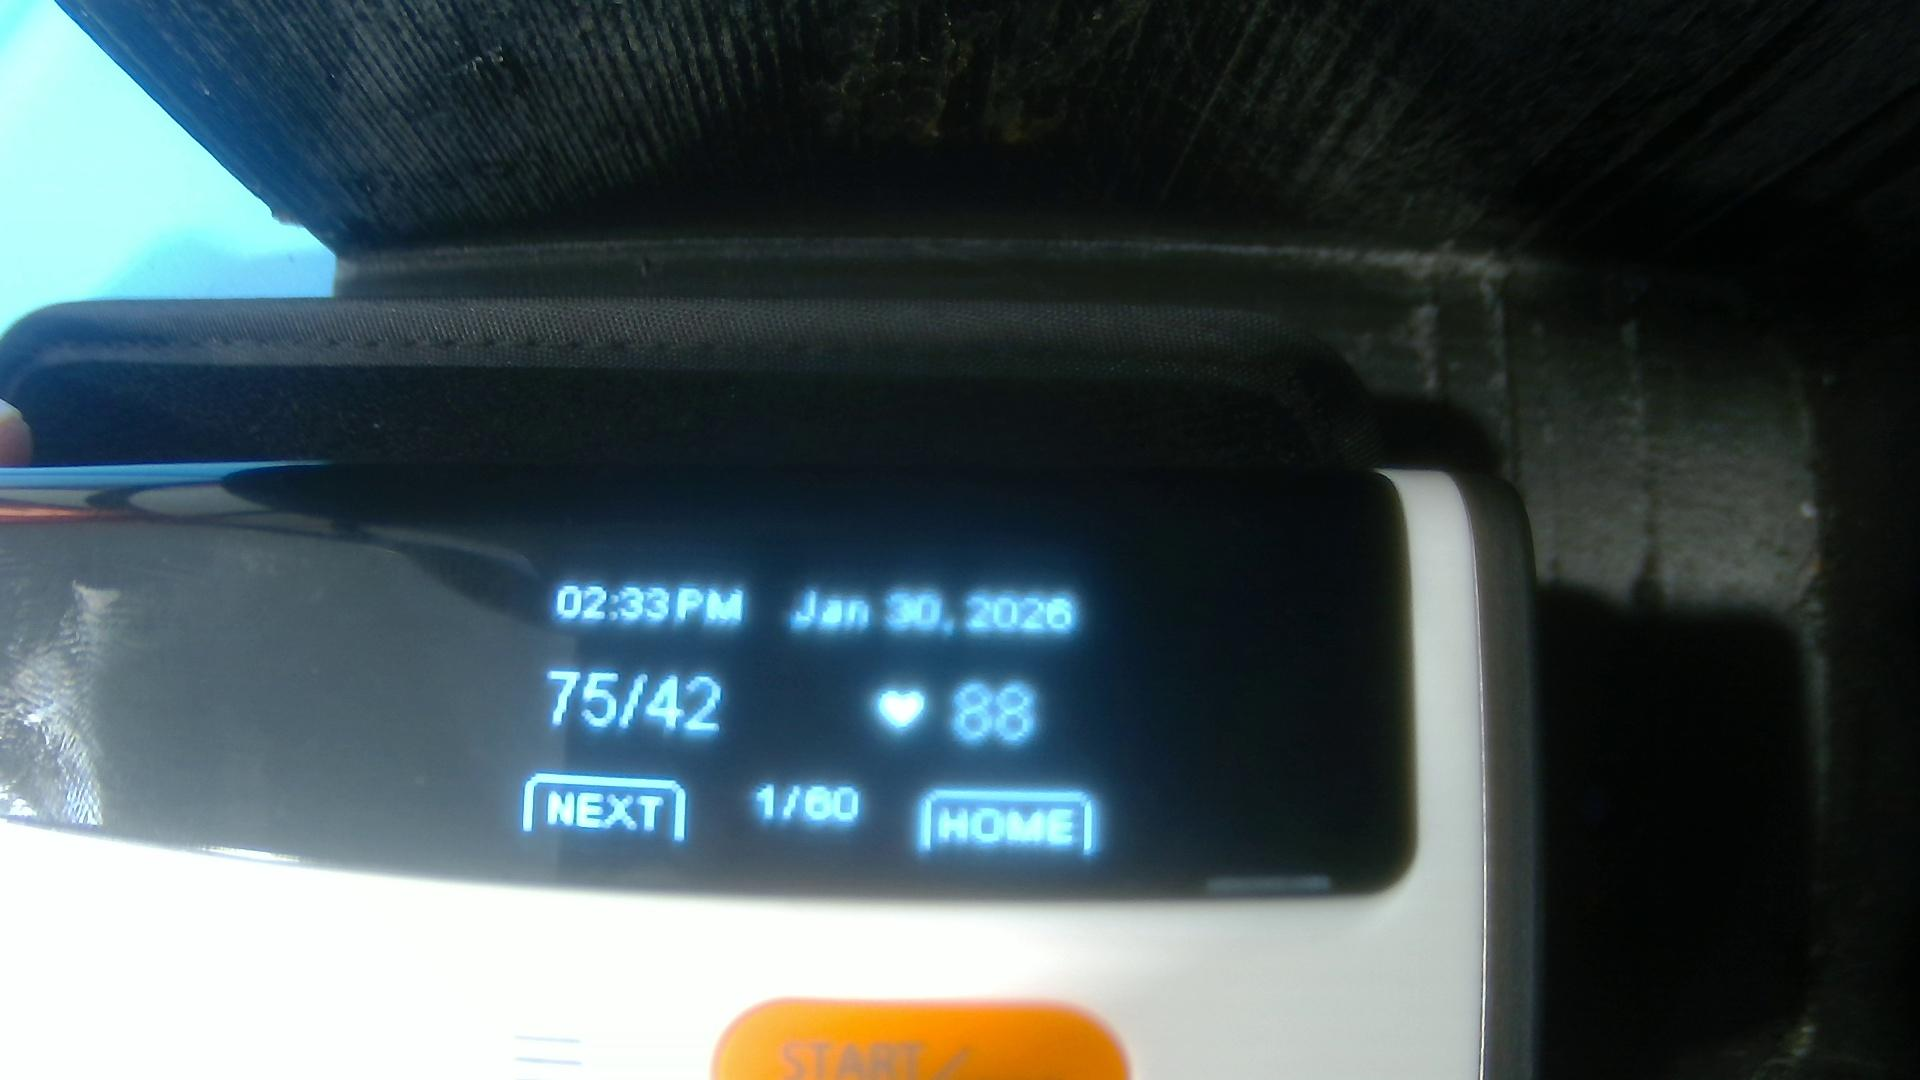DISPLAY: (8, 467, 1390, 895)
